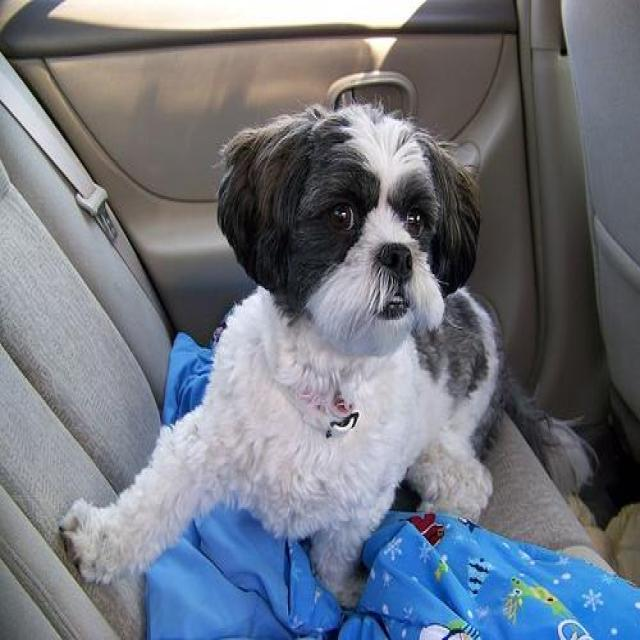shih_tzu: (62, 107, 590, 620)
